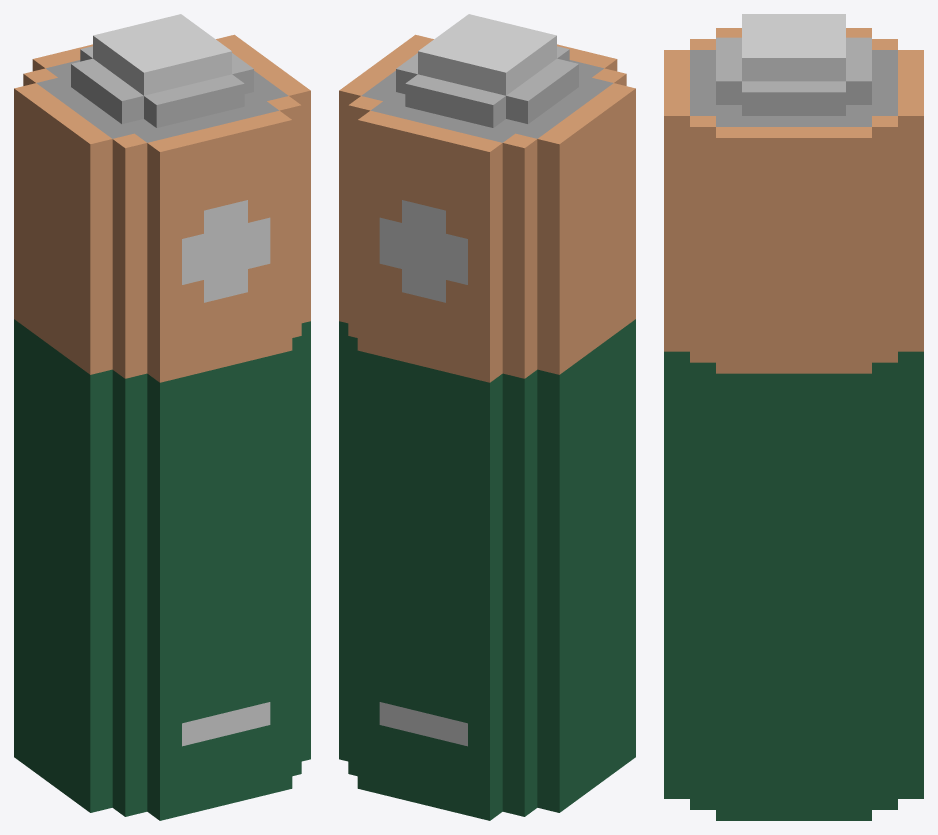
File: battery_2_1.2g.obj
3 renders of one model, left to right at view 1: azimuth 30°, elevation 25°; view 2: azimuth 150°, elevation 25°; view 3: azimuth 270°, elevation 25°, orthographic. The views are drawn at different scales.
Size of the model in its own units: 1 by 3.1 by 1.
Materials: 1 (1 with a texture image).
